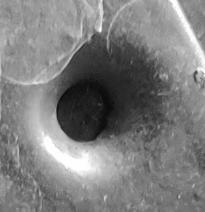missing-head: (1, 1, 205, 212)
